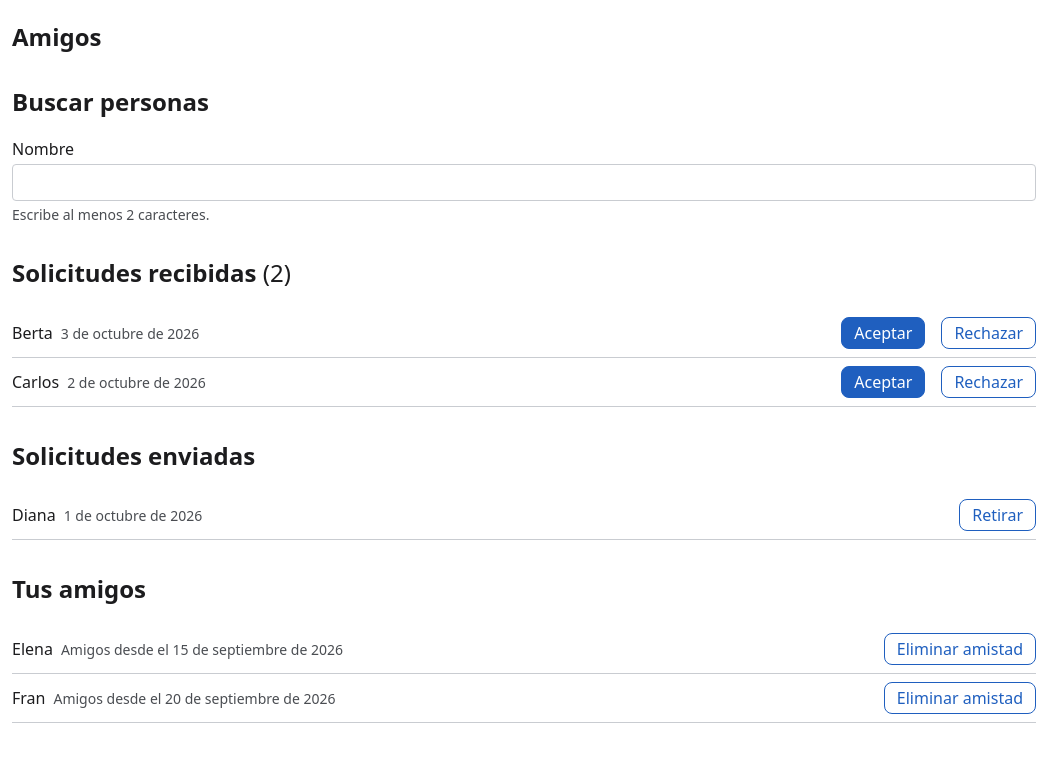
Scenario: AmigosComponent › aceptar › envía POST, quita la fila, recarga sin «Cargando», baja el contador y avisa
The image size is (1048, 768).
Click the button "Aceptar" in the row of "Berta".
click(883, 332)  # box x1=841 y1=316 x2=925 y2=348
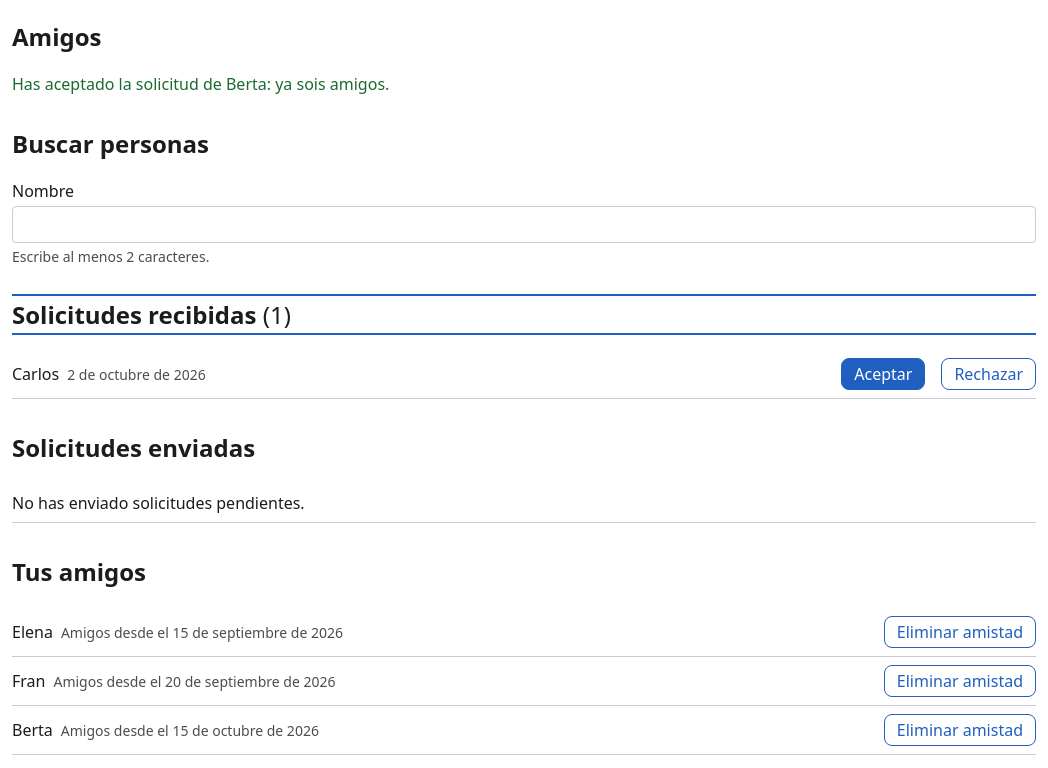
Result: the element with class "bloque" no longer shows "Berta"
Result: the text with class "exito" shows "Has aceptado la solicitud de Berta" at x1=12 y1=73 x2=389 y2=95
